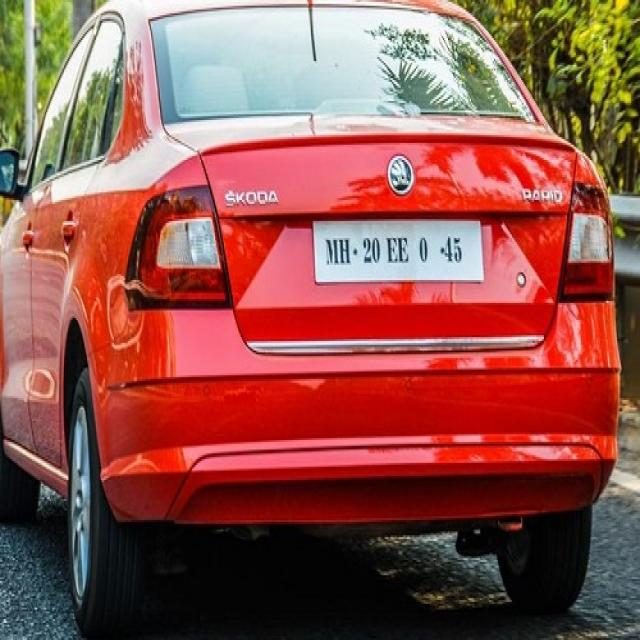license-plate: (311, 215, 483, 282)
